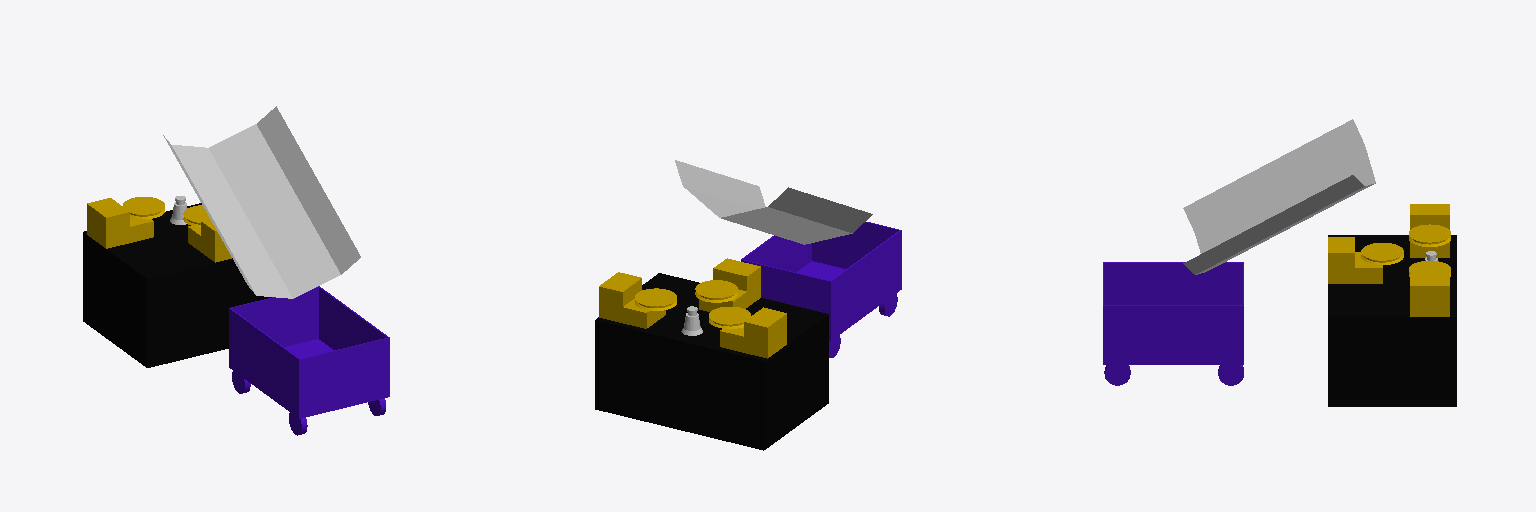
The picture shows the model from 3 angles: view 1: azimuth 30°, elevation 25°; view 2: azimuth 150°, elevation 25°; view 3: azimuth 270°, elevation 25°; orthographic projection.
Visible parts, largest first — view 1: 평면, Cube, 큐브_큐브.003, roll2_큐브.001, roll1_큐브; view 2: Cube, 큐브_큐브.003, 평면, roll2_큐브.001, roll2.001_큐브.002, roll1_큐브; view 3: Cube, 큐브_큐브.003, 평면, roll1_큐브, roll2.001_큐브.002, roll2_큐브.001.
Boxes of the visible parts, x1,y1,x2,y2 form: 평면: [163, 106, 360, 298]; Cube: [83, 203, 271, 367]; 큐브_큐브.003: [229, 286, 389, 418]; roll2_큐브.001: [87, 197, 164, 248]; roll1_큐브: [183, 205, 231, 262]; Cube: [595, 273, 828, 450]; 큐브_큐브.003: [741, 222, 901, 340]; 평면: [675, 160, 872, 244]; roll2_큐브.001: [709, 307, 786, 358]; roll2.001_큐브.002: [599, 272, 676, 328]; roll1_큐브: [695, 258, 760, 311]; Cube: [1328, 235, 1456, 406]; 큐브_큐브.003: [1103, 262, 1243, 364]; 평면: [1183, 119, 1375, 274]; roll1_큐브: [1328, 237, 1403, 283]; roll2.001_큐브.002: [1409, 261, 1450, 316]; roll2_큐브.001: [1409, 204, 1450, 257].
Bounding box in the file's own units: 5.98 × 7.36 × 10.82.